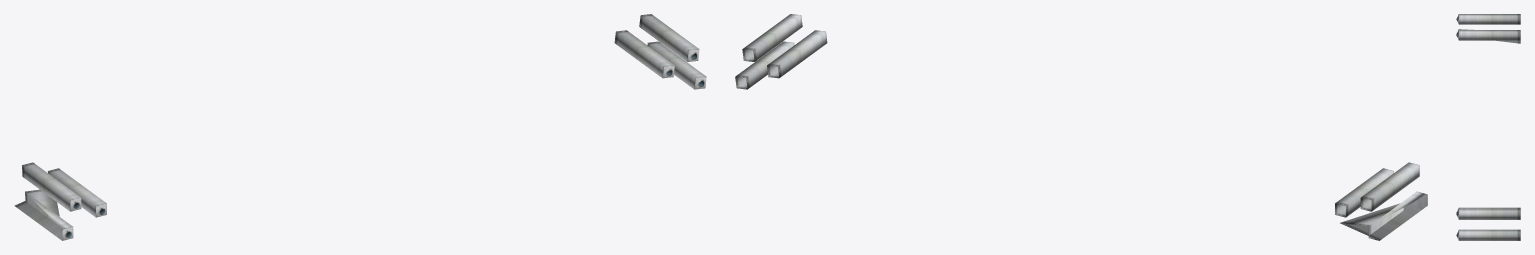
Rendered from hutt_fighter_light_weapon_s04_l1.fbx.
3 renders of one model, left to right at view 1: azimuth 30°, elevation 25°; view 2: azimuth 150°, elevation 25°; view 3: azimuth 270°, elevation 25°, orthographic. The views are drawn at different scales.
Visible parts, largest first — view 1: mesh_node; view 2: mesh_node; view 3: mesh_node.
Boxes of the visible parts, box(x1,y1,x2,y2) form: mesh_node: box(14, 14, 706, 240); mesh_node: box(735, 14, 1427, 240); mesh_node: box(1456, 14, 1520, 240).
Size of the model in its own units: 3.49 by 0.2237 by 0.4694.
